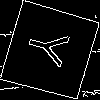Y: (24, 25, 80, 71)
